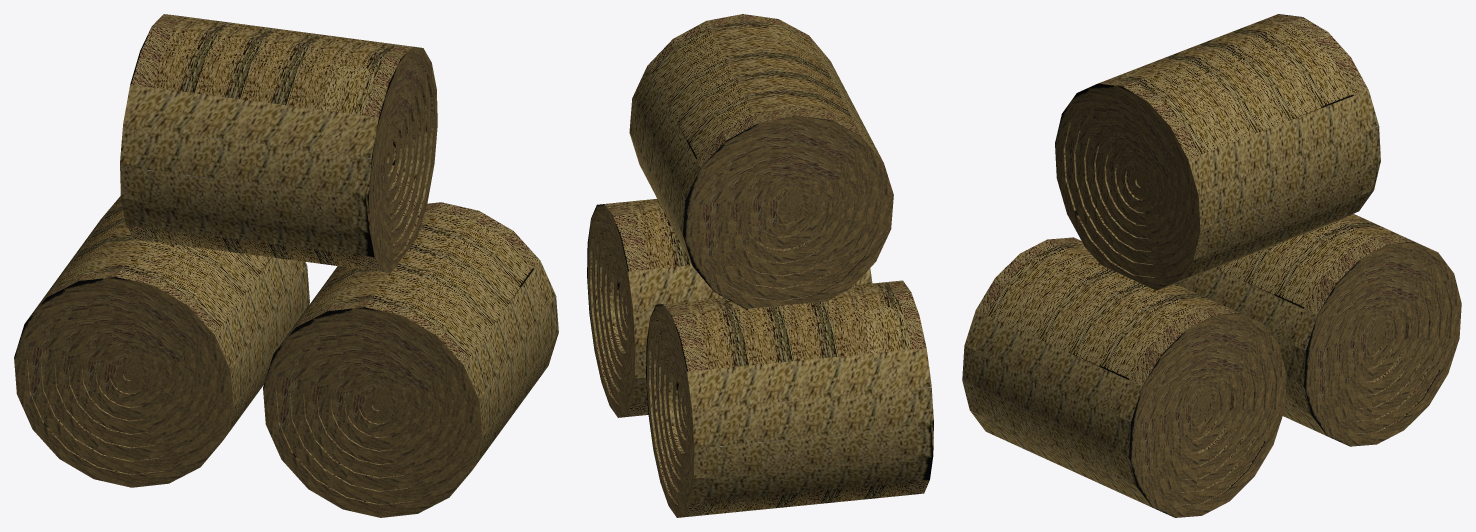
Rendered from HayBales X3.fbx.
The picture shows the model from 3 angles, left to right: view 1: azimuth 30°, elevation 25°; view 2: azimuth 150°, elevation 25°; view 3: azimuth 270°, elevation 25°; orthographic projection. The views are drawn at different scales.
Visible parts, largest first — view 1: Cylinder003, Cylinder002, Cylinder001; view 2: Cylinder001, Cylinder003, Cylinder002; view 3: Cylinder003, Cylinder002, Cylinder001.
Boxes of the visible parts, x1,y1,x2,y2 form: Cylinder003: (120, 14, 437, 272); Cylinder002: (263, 202, 558, 517); Cylinder001: (14, 196, 309, 487); Cylinder001: (646, 280, 933, 517); Cylinder003: (629, 14, 893, 308); Cylinder002: (587, 199, 872, 417); Cylinder003: (1055, 14, 1380, 290); Cylinder002: (962, 237, 1286, 517); Cylinder001: (1175, 214, 1461, 446).
Bounding box in the file's own units: 46.06 × 39.43 × 46.49.
Materials: 1 (1 with a texture image).
